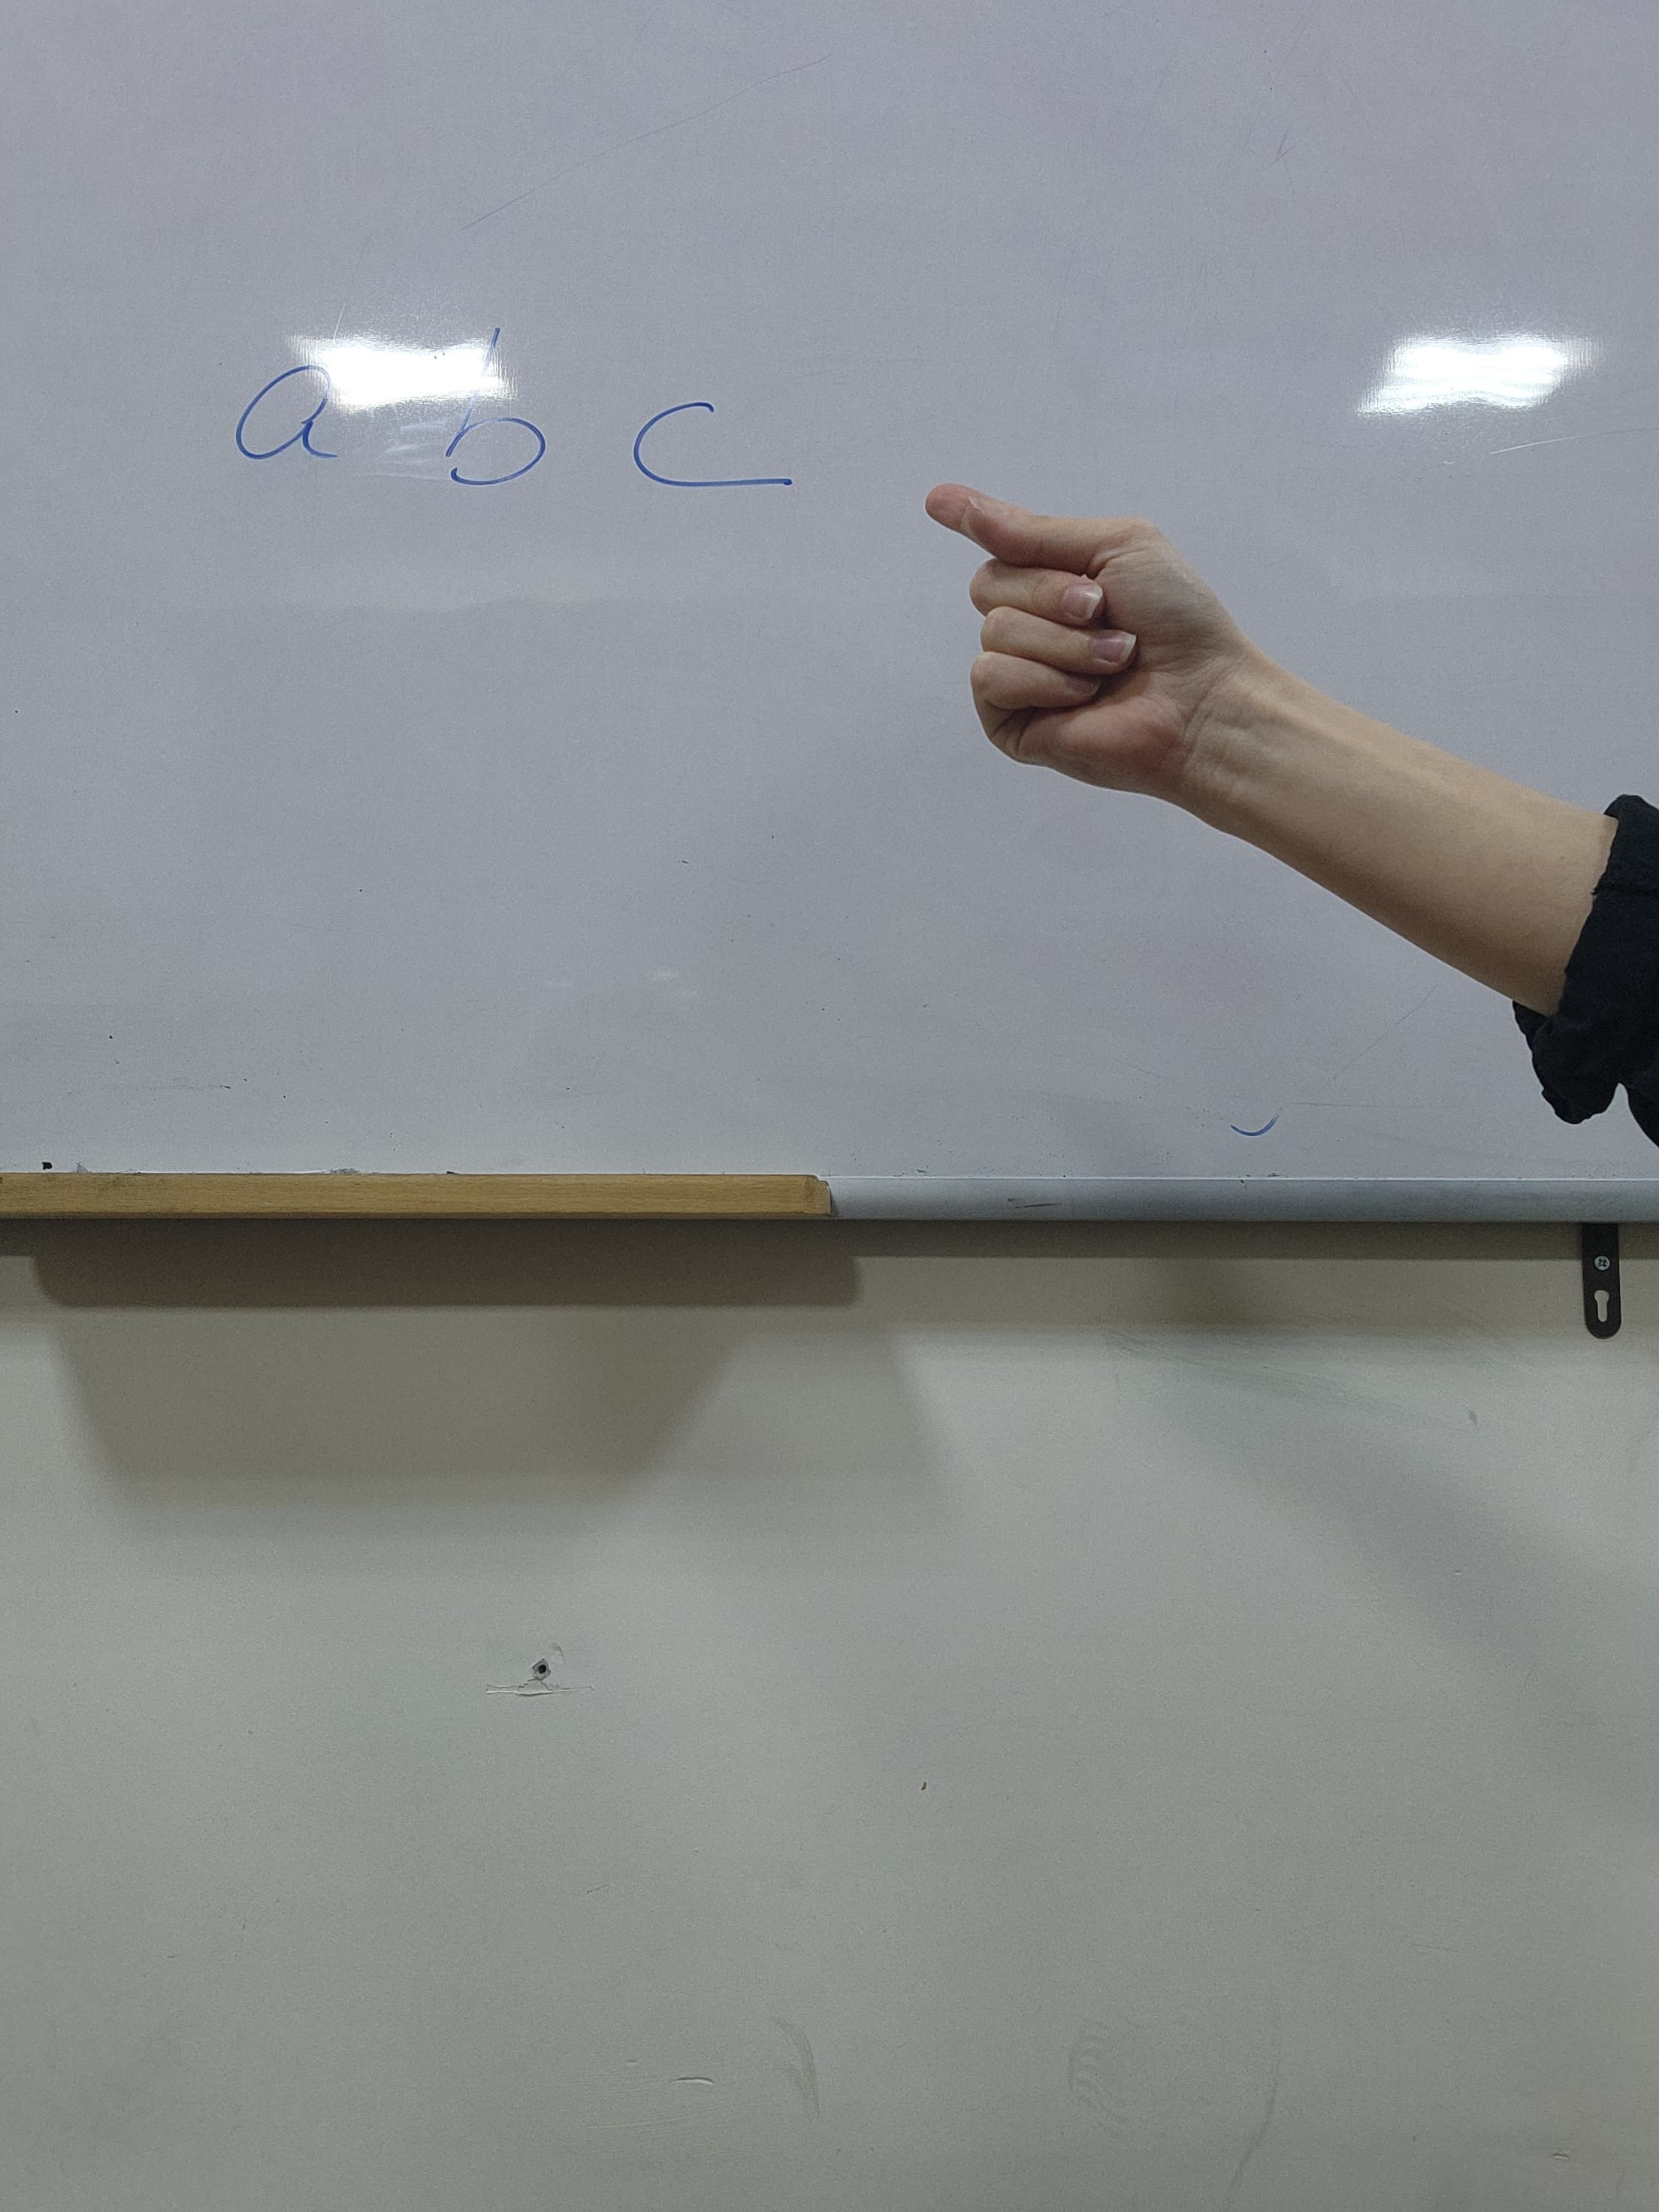pointing_gesture: (907, 480, 1241, 812)
